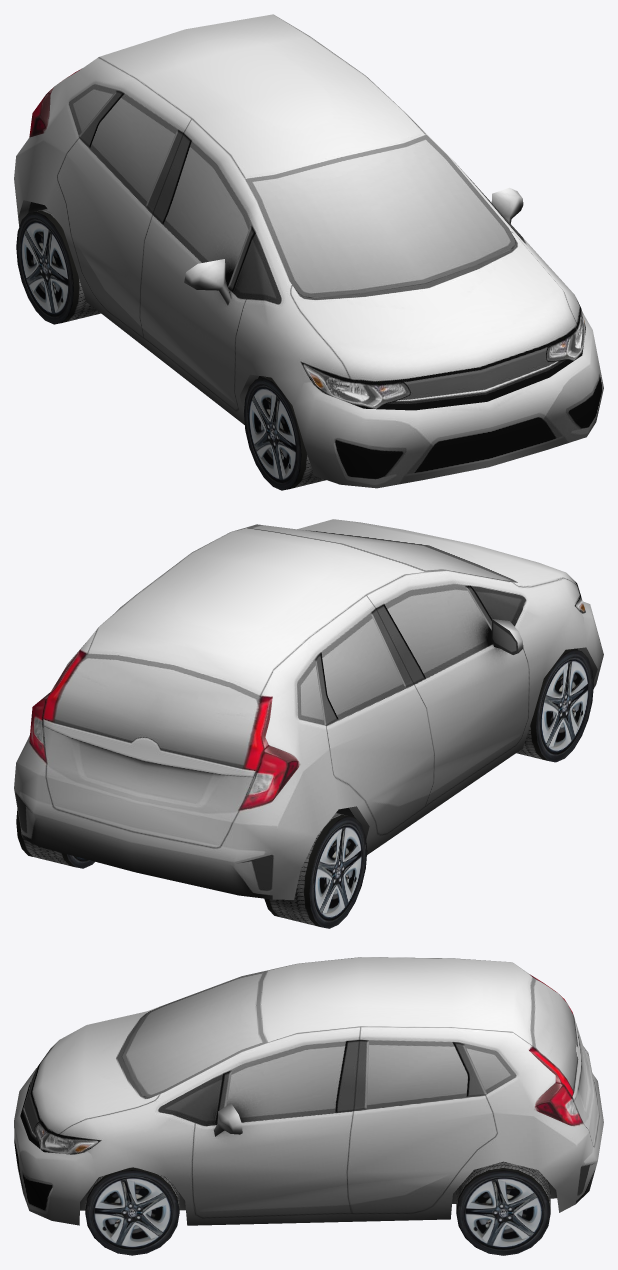
The model's file is gz-hatchback.glb.
The picture shows the model from 3 angles, top to bottom: view 1: azimuth 30°, elevation 25°; view 2: azimuth 150°, elevation 25°; view 3: azimuth 270°, elevation 25°; orthographic projection. The views are drawn at different scales.
Parts seen in each view (by area): view 1: object 1, wheel_rr, wheel_fr; view 2: object 1, wheel_rr, wheel_fr, wheel_rl; view 3: object 1, wheel_rl, wheel_fl.
Boxes of the visible parts, box(x1,y1,x2,y2) form: object 1: box(14, 14, 603, 488); wheel_rr: box(16, 208, 100, 324); wheel_fr: box(244, 377, 326, 490); object 1: box(14, 519, 603, 899); wheel_rr: box(264, 813, 367, 928); wheel_fr: box(516, 649, 593, 762); wheel_rl: box(16, 809, 94, 868); object 1: box(14, 957, 603, 1225); wheel_rl: box(456, 1161, 550, 1255); wheel_fl: box(85, 1167, 179, 1255).
Bounding box in the file's own units: 2.14 × 1.57 × 4.
2 materials, 2 textured.
